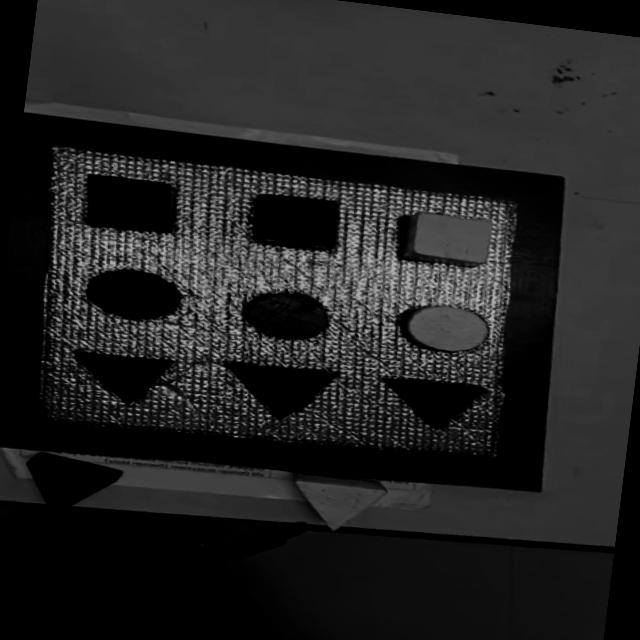bcircle: (82, 264, 182, 324)
bcube: (82, 172, 180, 234)
mttriangle: (217, 358, 341, 427), (376, 372, 488, 437), (66, 346, 176, 412)
rcircle: (240, 287, 334, 345)
rcube: (250, 190, 346, 252)
rtriangle: (21, 450, 122, 517)
wb: (18, 140, 534, 476)
ycircle: (399, 300, 493, 358)
ycube: (405, 210, 495, 268)
ytriangle: (288, 471, 388, 537)
